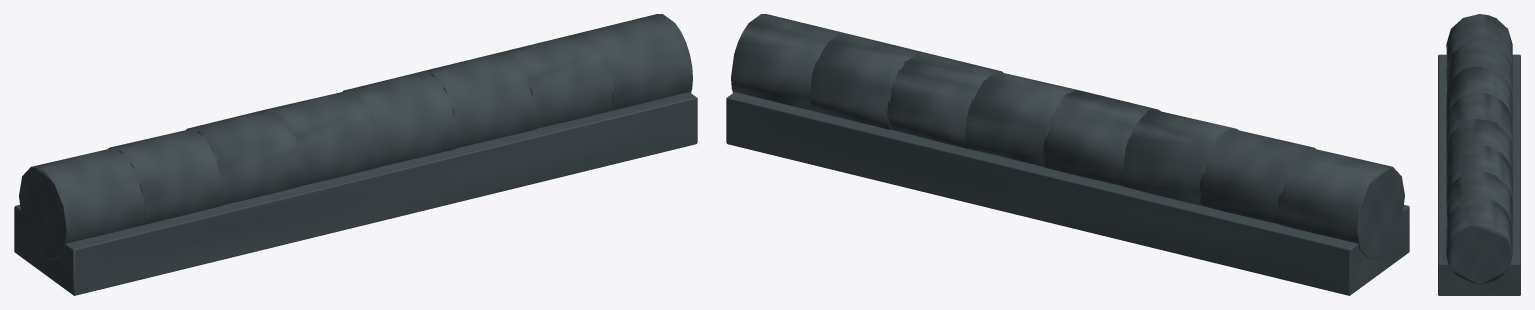
The model's file is roof_ridge.gltf.
The picture shows the model from 3 angles, left to right: view 1: azimuth 30°, elevation 25°; view 2: azimuth 150°, elevation 25°; view 3: azimuth 270°, elevation 25°; orthographic projection. The views are drawn at different scales.
Bounding box in the file's own units: 1.81 × 0.29 × 0.3.
Materials: 1 (1 with a texture image).
